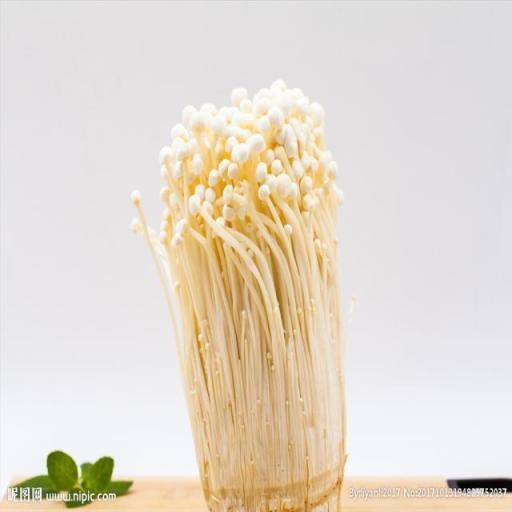Enoki Mushroom: (133, 81, 347, 510)
